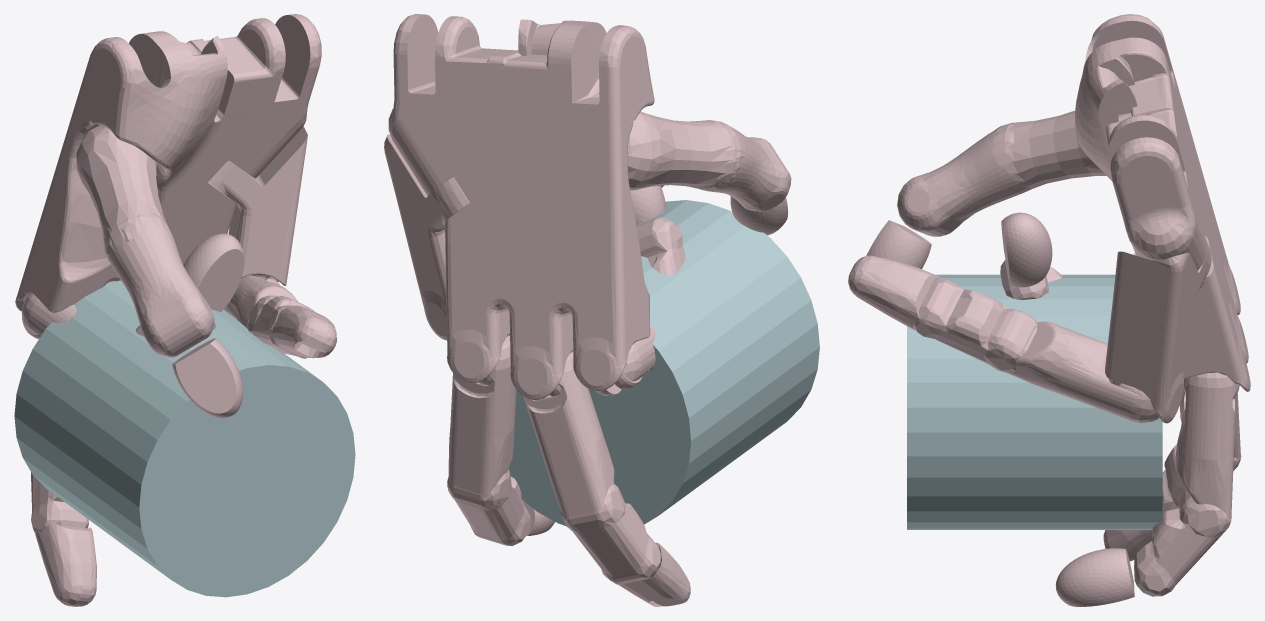
The model's file is grasp_1.glb.
The picture shows the model from 3 angles, left to right: view 1: azimuth 30°, elevation 25°; view 2: azimuth 150°, elevation 25°; view 3: azimuth 270°, elevation 25°; orthographic projection. The views are drawn at different scales.
Parts seen in each view (by area): view 1: world; view 2: world; view 3: world.
Boxes of the visible parts, x1,y1,x2,y2 form: world: (14, 14, 355, 606); world: (384, 14, 819, 606); world: (848, 14, 1250, 606).
Bounding box in the file's own units: 0.1075 × 0.1954 × 0.1259.
